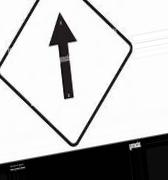forward: (2, 1, 133, 147)
